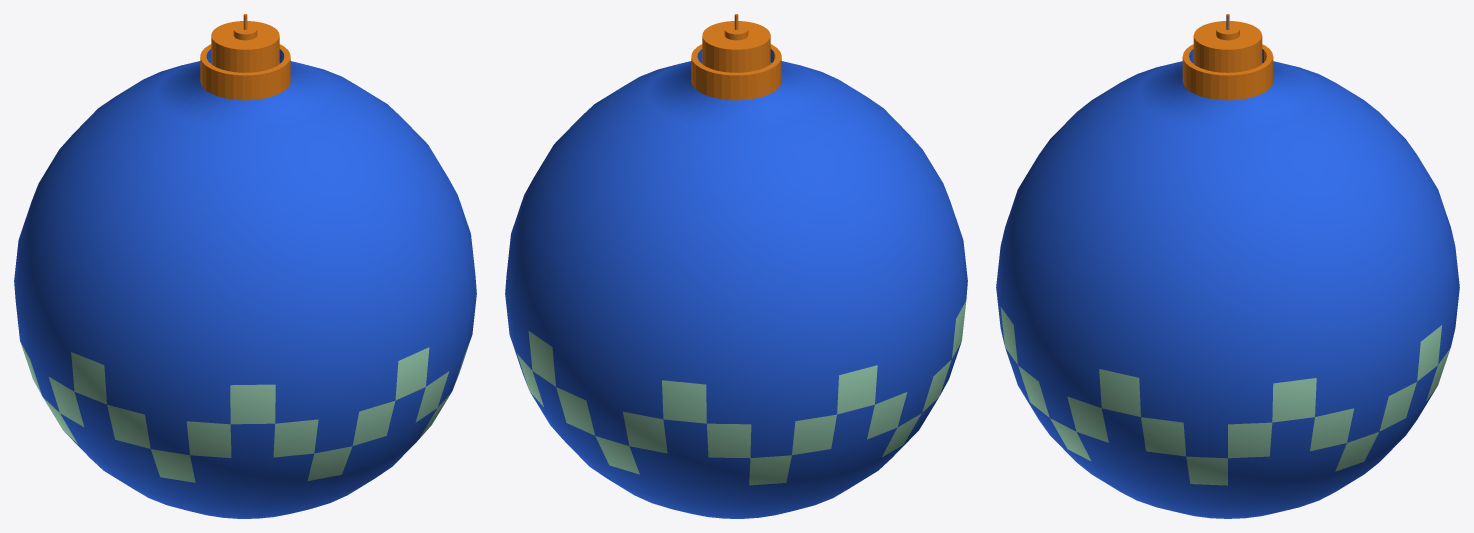
File: christmas decoration.002.fbx
The picture shows the model from 3 angles, left to right: view 1: azimuth 30°, elevation 25°; view 2: azimuth 150°, elevation 25°; view 3: azimuth 270°, elevation 25°; orthographic projection.
Visible parts, largest first — view 1: christmas decoration.002; view 2: christmas decoration.002; view 3: christmas decoration.002.
Boxes of the visible parts, x1,y1,x2,y2 form: christmas decoration.002: [14, 14, 476, 518]; christmas decoration.002: [505, 14, 967, 518]; christmas decoration.002: [996, 14, 1459, 518].
Size of the model in its own units: 60.92 by 69.98 by 60.92.
